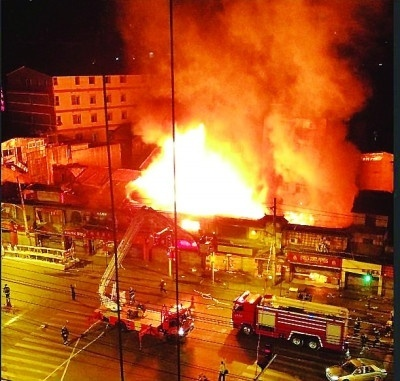fire: (130, 120, 264, 224)
